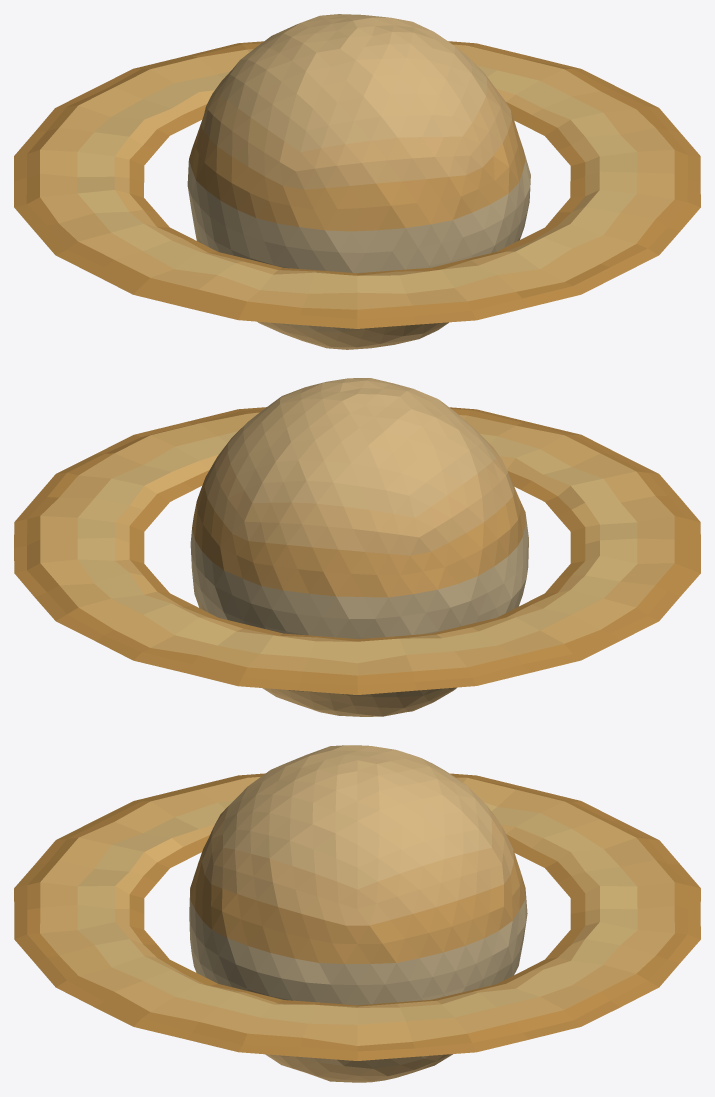
Rendered from SaturnLowPoly.fbx.
3 views of the same model, one above another, from view 1: azimuth 30°, elevation 25°; view 2: azimuth 150°, elevation 25°; view 3: azimuth 270°, elevation 25° (orthographic).
Visible parts, largest first — view 1: Torus.001, Icosphere; view 2: Torus.001, Icosphere; view 3: Torus.001, Icosphere.
Part boxes in pixels (x1=…): Torus.001: x1=14, y1=41, x2=700, y2=328; Icosphere: x1=187, y1=14, x2=530, y2=349; Torus.001: x1=14, y1=407, x2=700, y2=694; Icosphere: x1=190, y1=378, x2=528, y2=716; Torus.001: x1=14, y1=773, x2=700, y2=1060; Icosphere: x1=189, y1=745, x2=527, y2=1082.
Size of the model in its own units: 2085 by 1014 by 2055.
